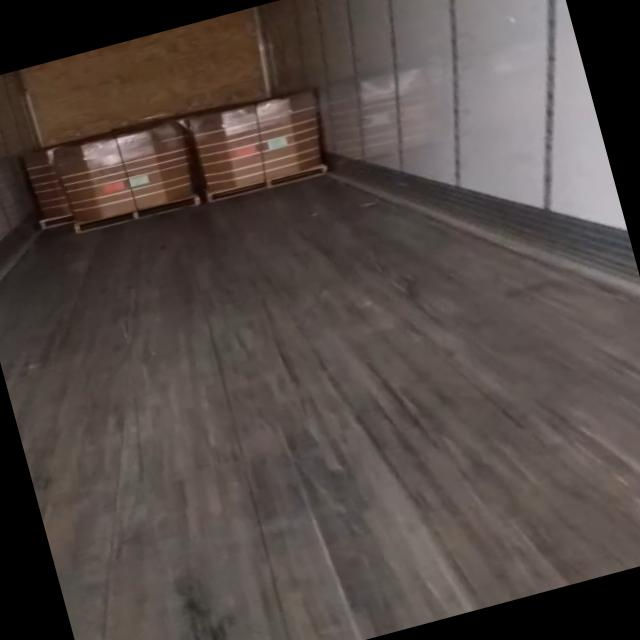pallet: (74, 195, 201, 233), (207, 164, 328, 202), (39, 213, 74, 229)
